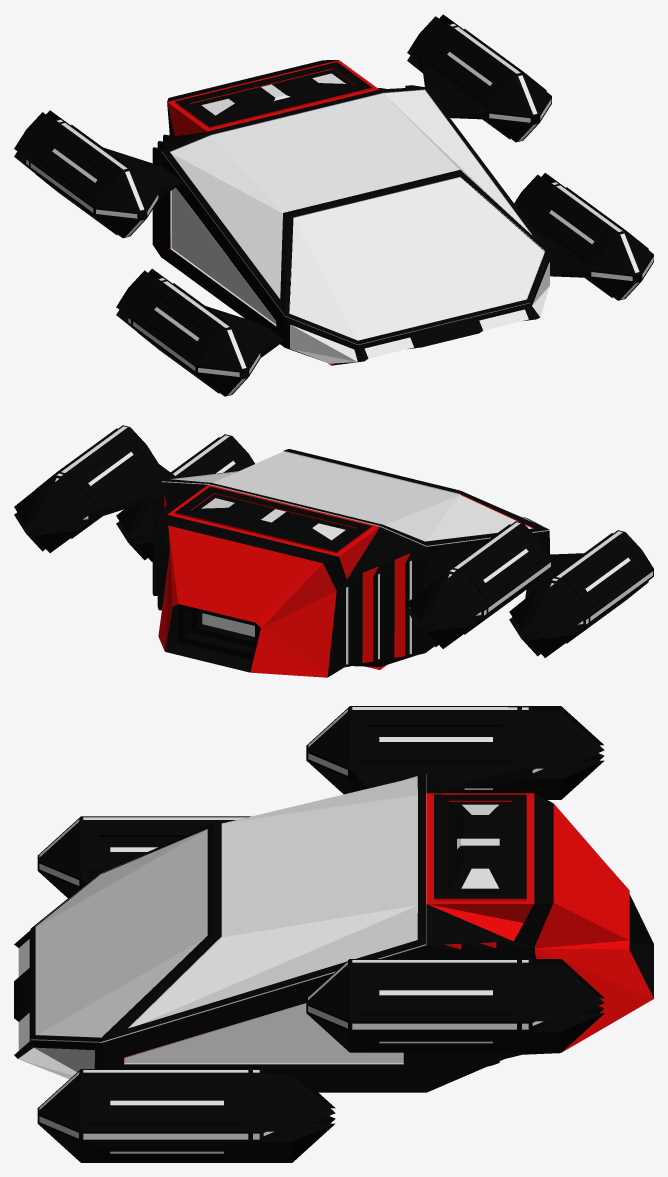
Rendered from SpaceShip.fbx.
3 views of the same model, one above another, from view 1: azimuth 30°, elevation 25°; view 2: azimuth 150°, elevation 25°; view 3: azimuth 270°, elevation 25° (orthographic). The views are drawn at different scales.
Parts seen in each view (by area): view 1: Cube.001; view 2: Cube.001; view 3: Cube.001.
Part boxes in pixels (<box>): Cube.001: <box>14,14,653,396</box>; Cube.001: <box>14,425,653,677</box>; Cube.001: <box>14,706,653,1162</box>.
Size of the model in its own units: 1102 by 387 by 1013.
